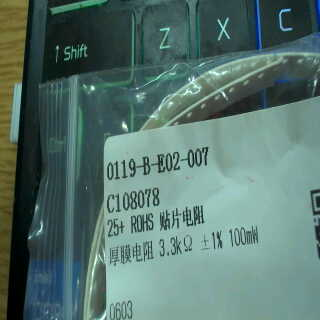3.3kO: (155, 230, 196, 260)
